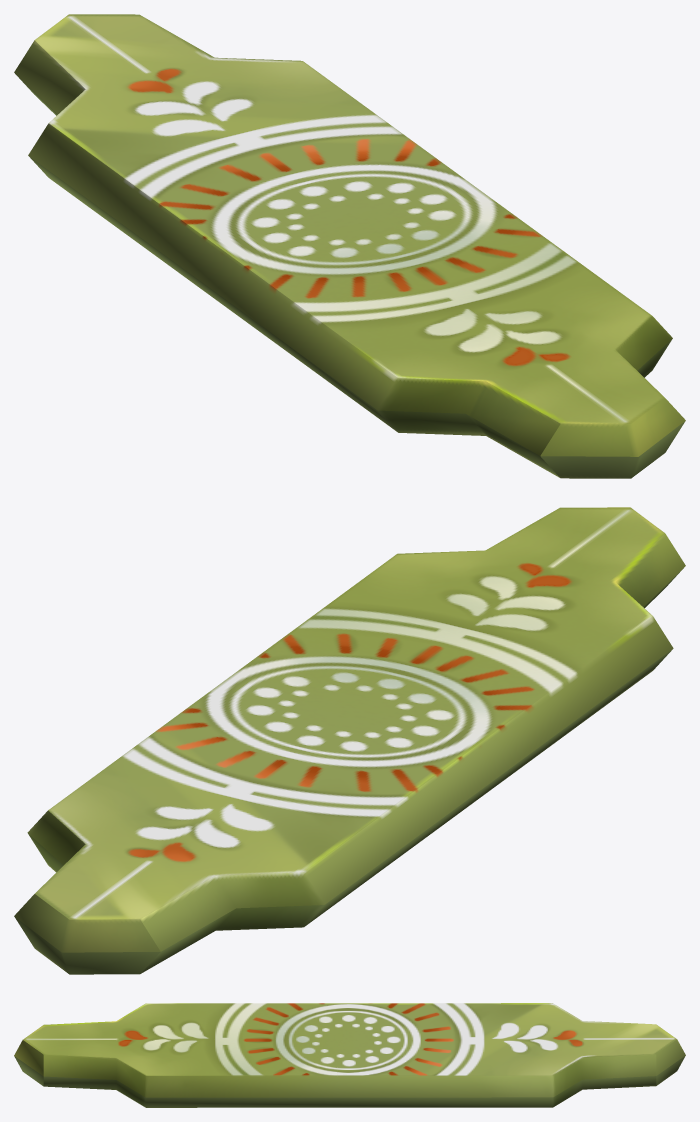
The model's file is gunner_bike1.FBX.
The picture shows the model from 3 angles, top to bottom: view 1: azimuth 30°, elevation 25°; view 2: azimuth 150°, elevation 25°; view 3: azimuth 270°, elevation 25°; orthographic projection. The views are drawn at different scales.
Parts seen in each view (by area): view 1: bike1; view 2: bike1; view 3: bike1.
Part boxes in pixels (x1,y1,x2,y2): bike1: (14, 14, 685, 478); bike1: (14, 507, 685, 974); bike1: (14, 1003, 685, 1107).
Size of the model in its own units: 101 by 17.8 by 339.
